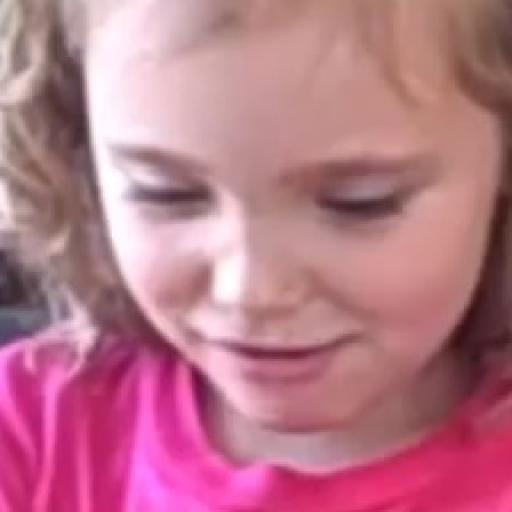Autism: (53, 13, 512, 427)
